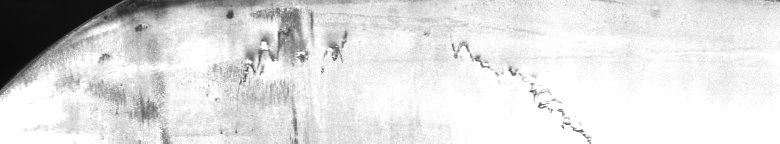ke: (34, 0, 360, 144)
